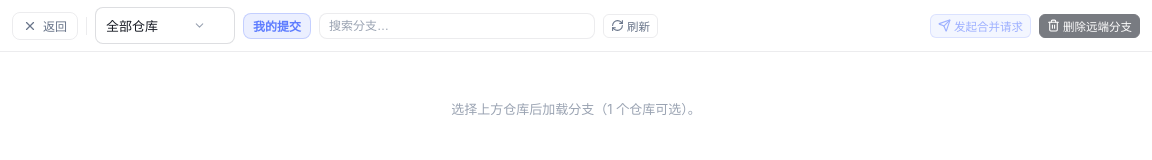
Scenario: PendingMrView › shows an explicit empty state when nothing is pending
The width and height of the screenshot is (1152, 160).
Click the dropdown labelled "全部仓库": (165, 26) [95,7,235,44]
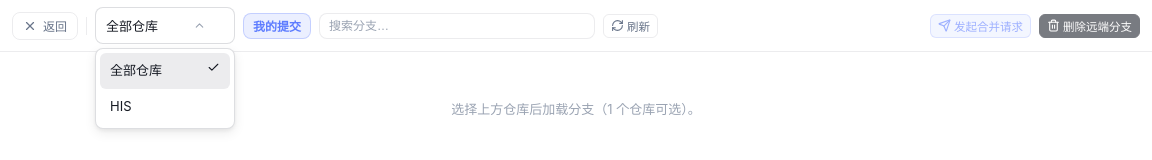
Click the option "HIS": (121, 106) [110,98,132,114]
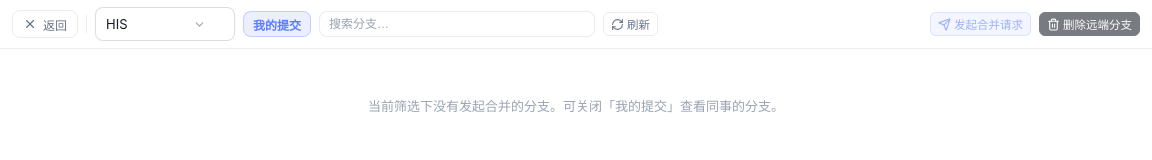
Check: the text "当前筛选下没有发起合并的分支。可关闭「我的提交」查看同事的分支。" is shown, box [368,98,784,114]
